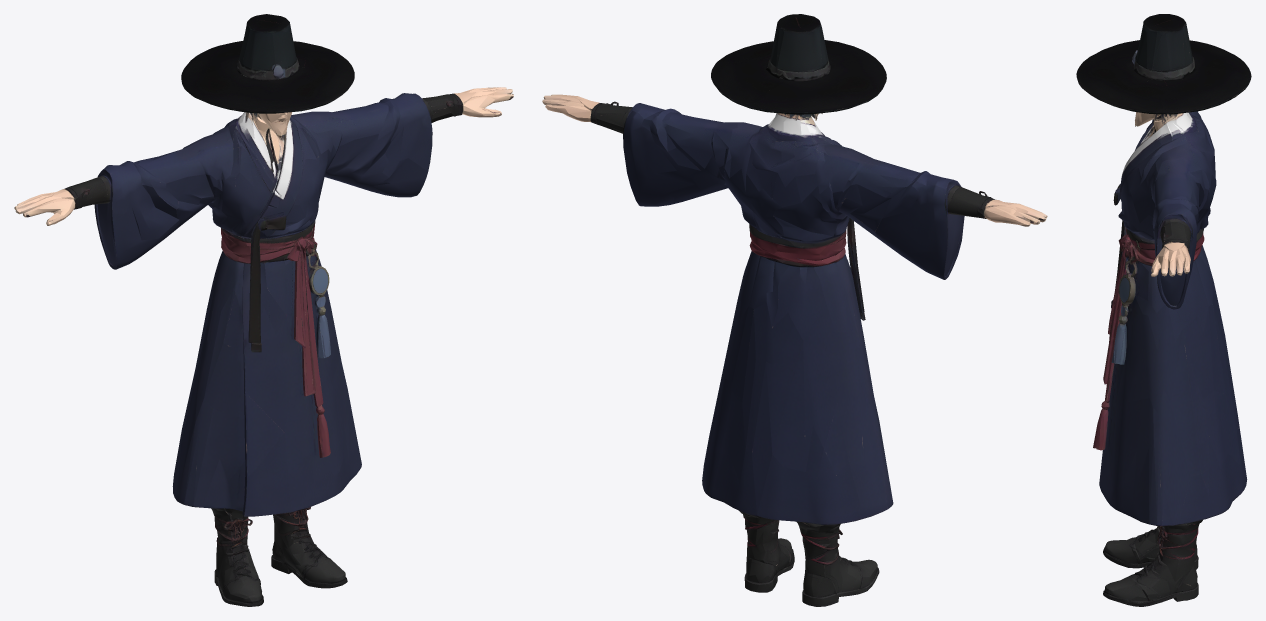
Rendered from doho_meshy_clean_textured.glb.
3 views of the same model, side by side, from view 1: azimuth 30°, elevation 25°; view 2: azimuth 150°, elevation 25°; view 3: azimuth 270°, elevation 25° (orthographic).
Bounding box in the file's own units: 1.77 × 1.9 × 0.5406.
1 material, 1 textured.
